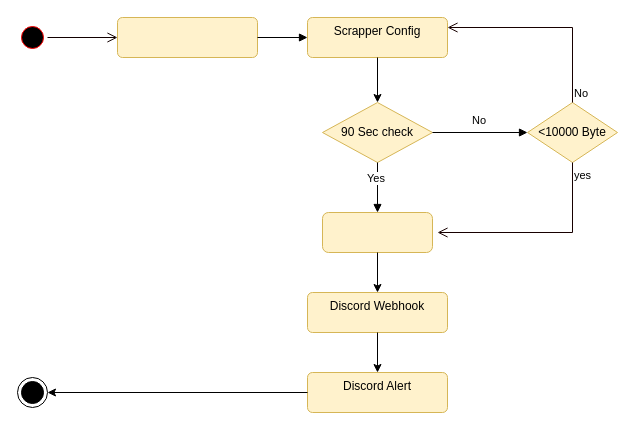
This 635x430 diagram has some shape labels left out. The centre of each missing label's shape, as x and y in pixels:
"Http Endpoint" belongs at [187,37].
"Scrapper Logs" belongs at [377,232].
